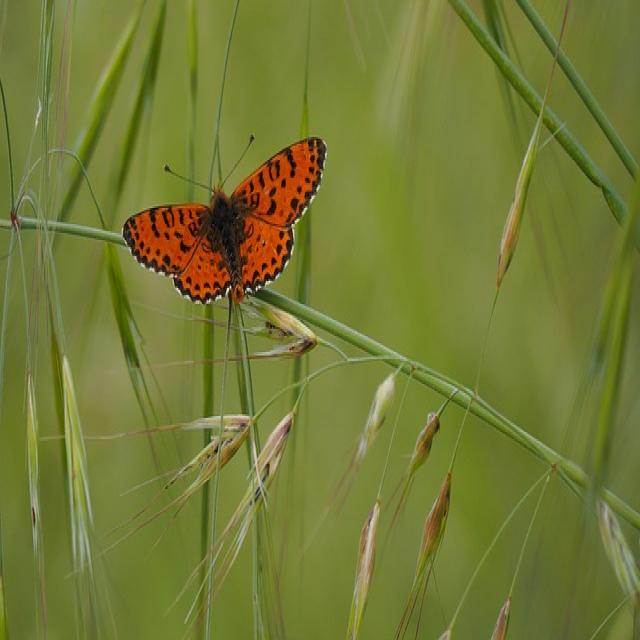butterfly: (120, 137, 327, 308)
